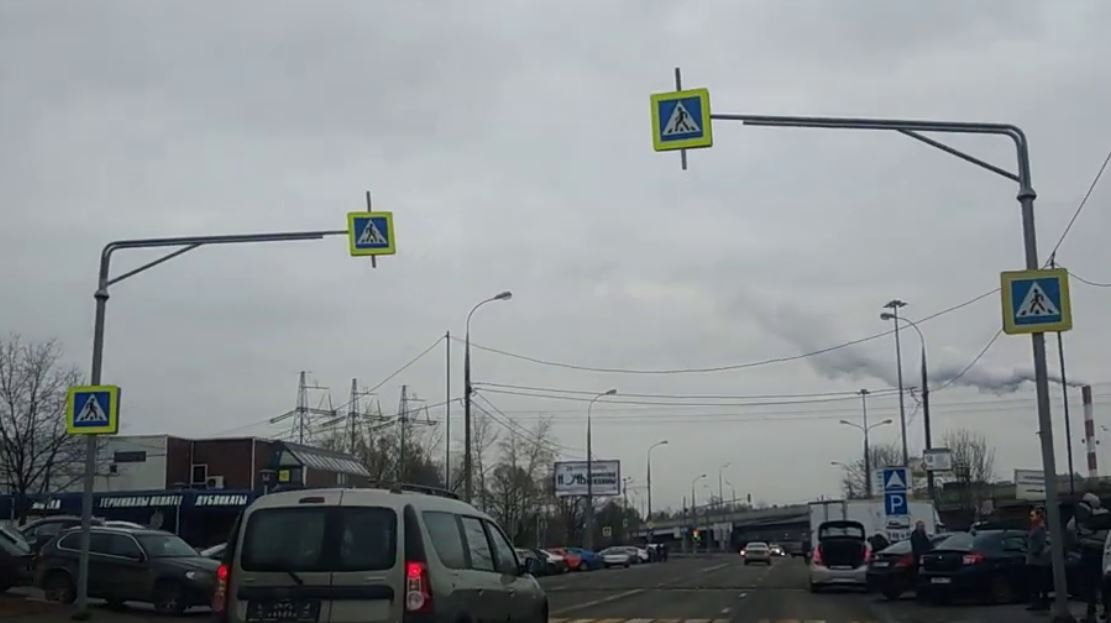Yaya Gecidi: (1011, 278, 1065, 327), (660, 99, 705, 139), (73, 394, 114, 431), (354, 218, 388, 251)
